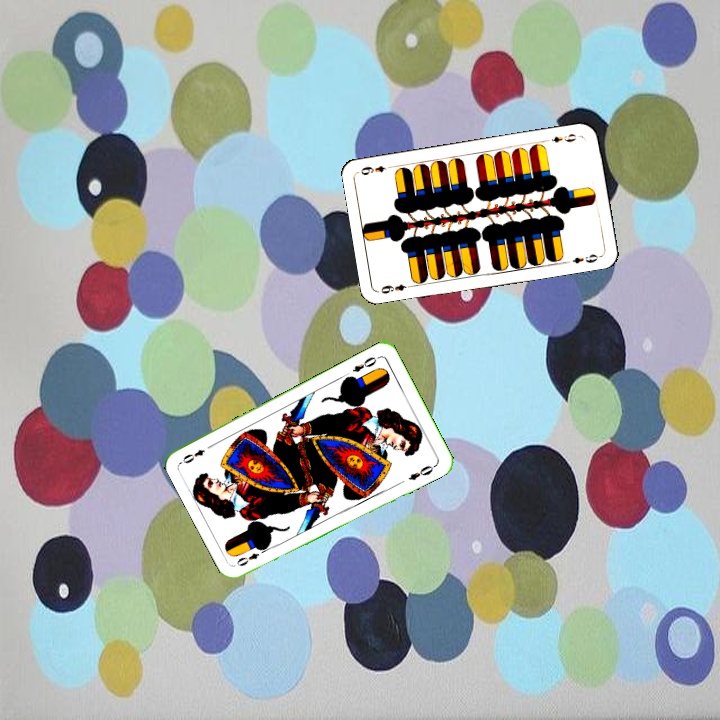E9: (377, 280, 416, 296), (542, 130, 583, 145)
EO: (348, 352, 382, 375), (232, 549, 262, 569)
